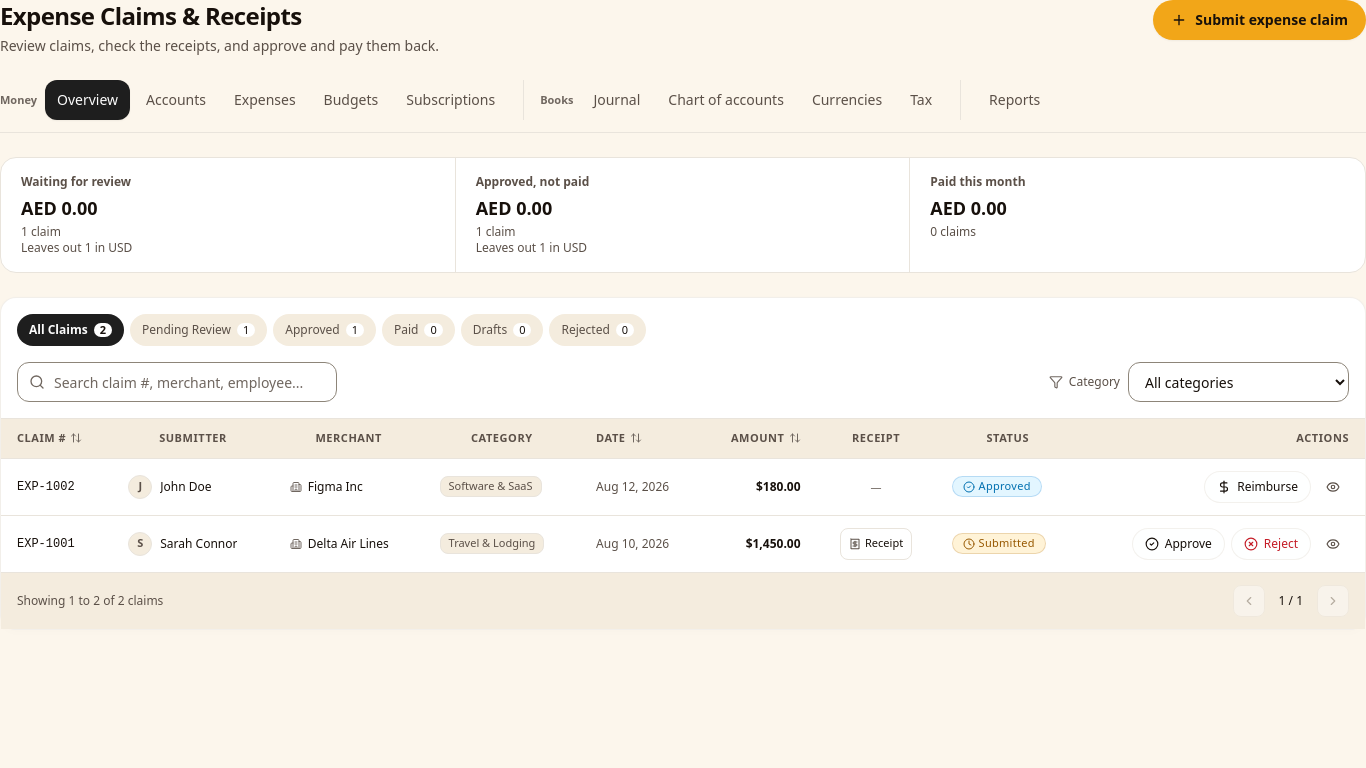
Test case: Finance Routes & Views Suite › ExpensesView (/finance/expenses) › opens submit modal when clicking "Submit Expense Claim"
The image size is (1366, 768).
Click the button with test id "submit-new-claim-btn". click: (1260, 20)
box: [1153,0,1365,40]
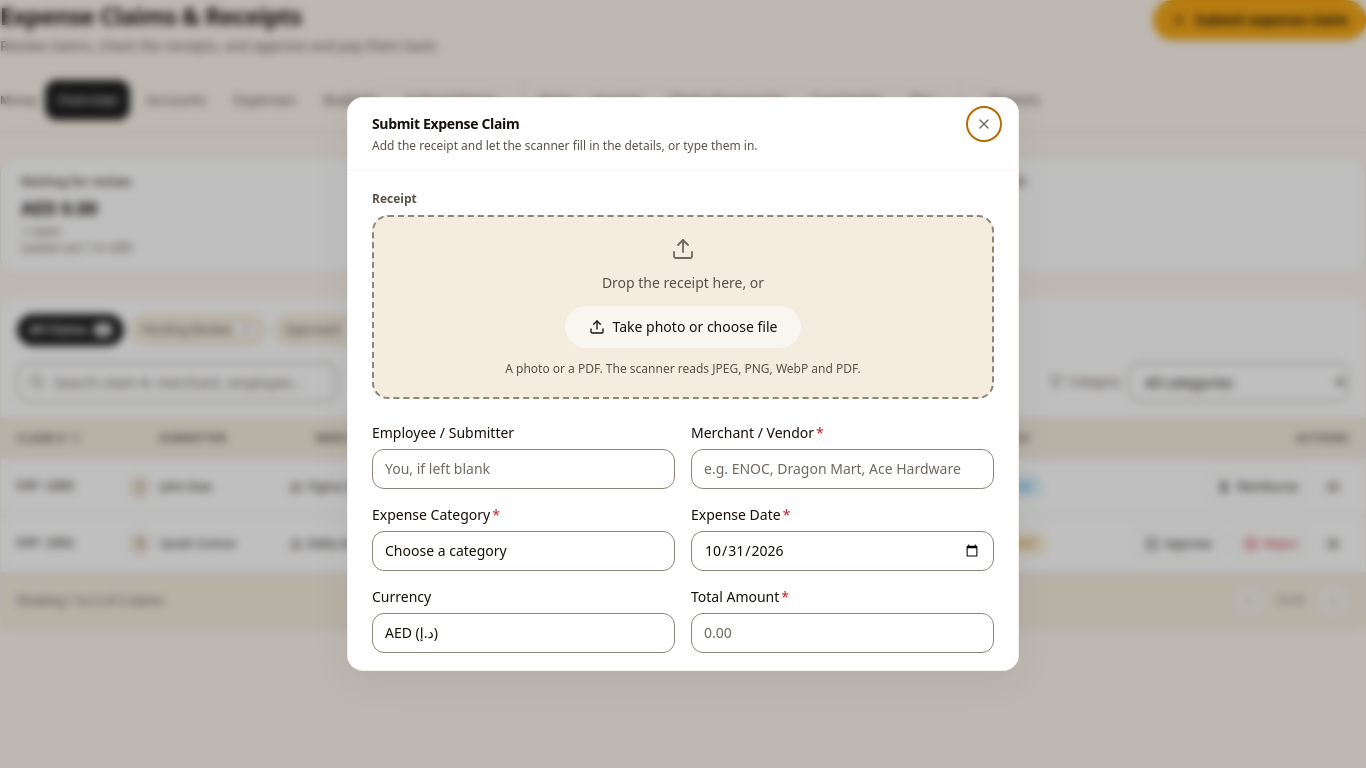
Result: the heading "Submit Expense Claim" is shown at [372,114,519,133]
